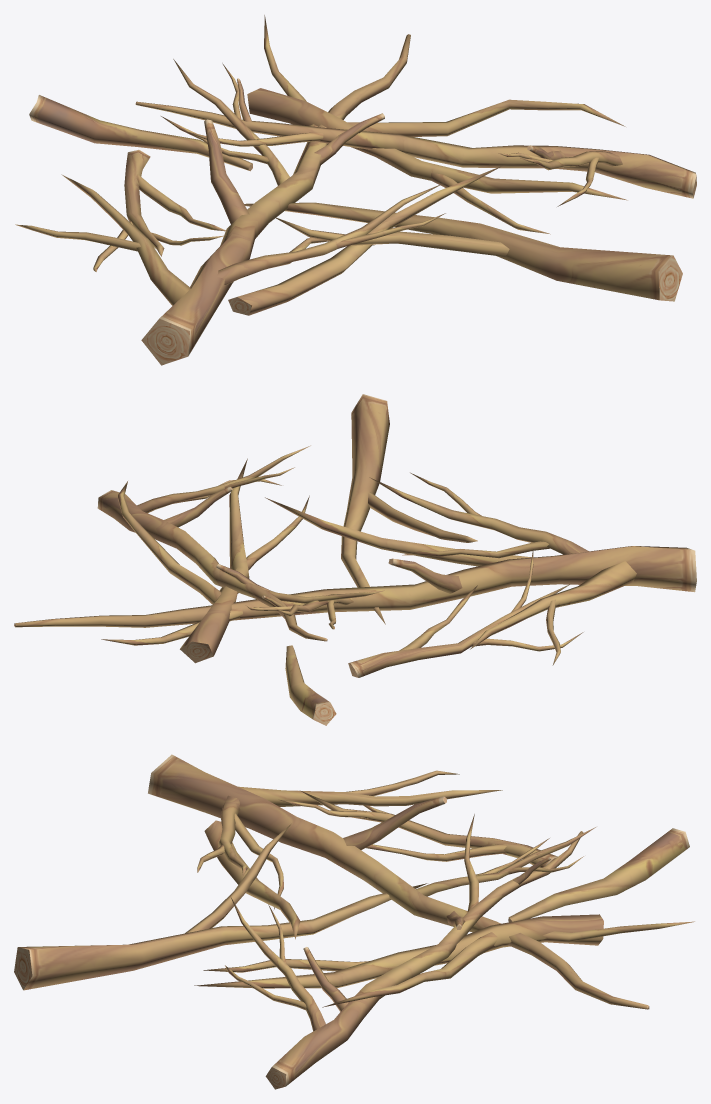
File: SM_ENV_branch_ancient_03.fbx
The picture shows the model from 3 angles, top to bottom: view 1: azimuth 30°, elevation 25°; view 2: azimuth 150°, elevation 25°; view 3: azimuth 270°, elevation 25°; orthographic projection. The views are drawn at different scales.
Visible parts, largest first — view 1: SM_ENV_branch_ancient_03_LOD0; view 2: SM_ENV_branch_ancient_03_LOD0; view 3: SM_ENV_branch_ancient_03_LOD0.
Part boxes in pixels (x1,y1,x2,y2): SM_ENV_branch_ancient_03_LOD0: (15,15,696,365); SM_ENV_branch_ancient_03_LOD0: (14,394,696,725); SM_ENV_branch_ancient_03_LOD0: (14,754,694,1089).
Size of what is drawn, in the model's own units: 200 by 35.29 by 204.
